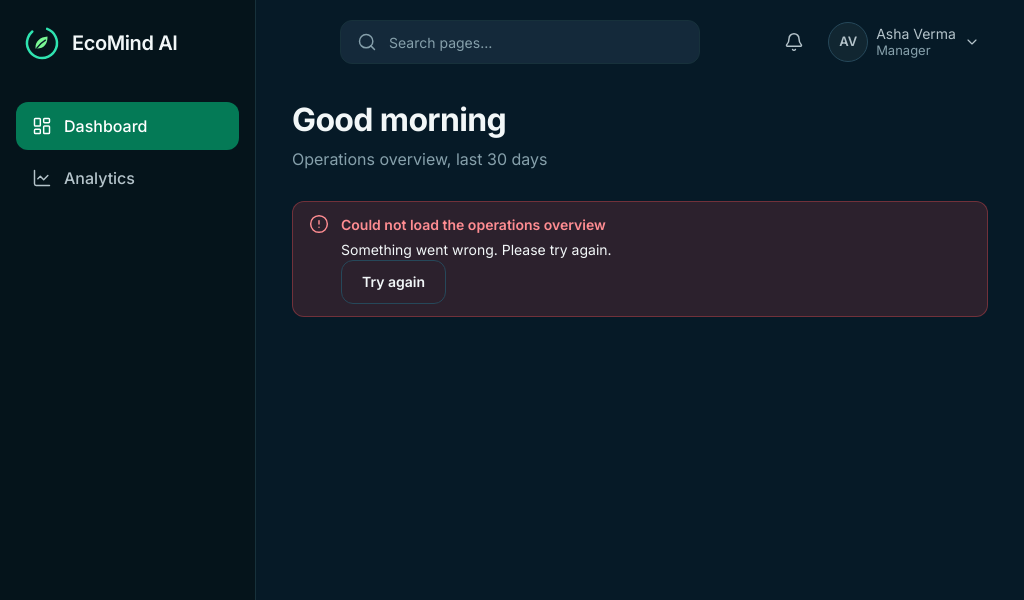
operations dashboard › reports a failed request with its reason and recovers on retry
Expected: the text "Could not load the operations overview" is shown, [341,214,612,235]
Click the button "Try again" at {"x": 394, "y": 282}, box [341,260,446,304]
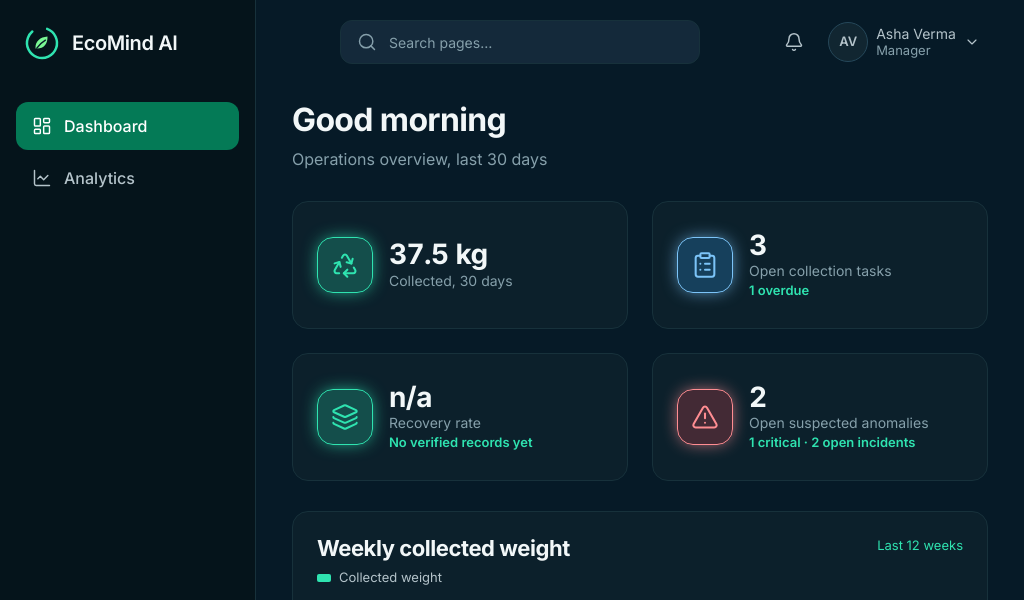
Result: the list named "Key metrics" is shown at [292,201,988,481]
